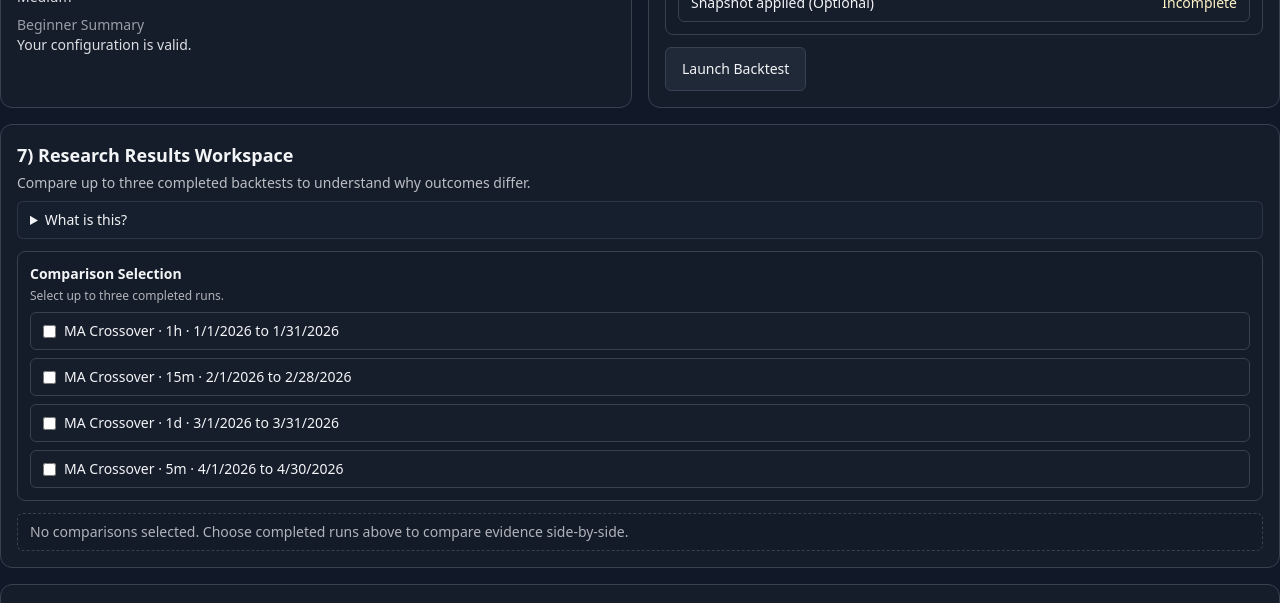
Test: StrategyLabPage Prompt 4.2 › renders deterministic key differences from selected run metrics
This screenshot has width=1280, height=603.
(page scrolled)
Click the checkbox named "Select comparison run bt-1". click: click(50, 332)
box: [43,325,56,338]
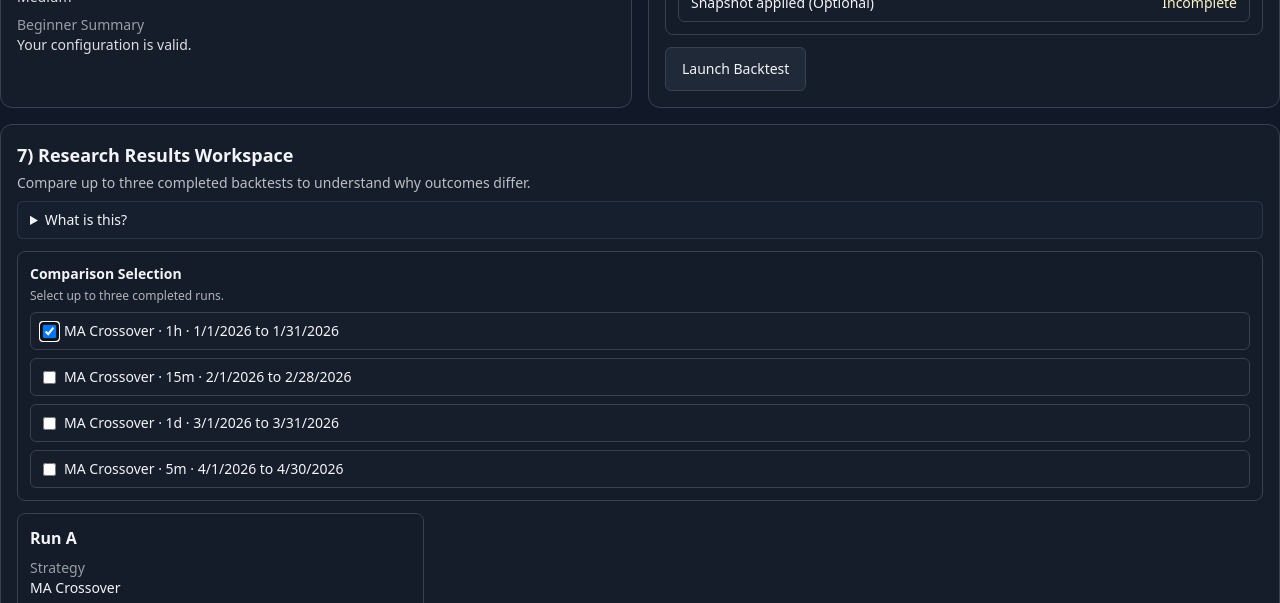
Click the checkbox named "Select comparison run bt-2". click: click(50, 378)
box: [43,371,56,384]
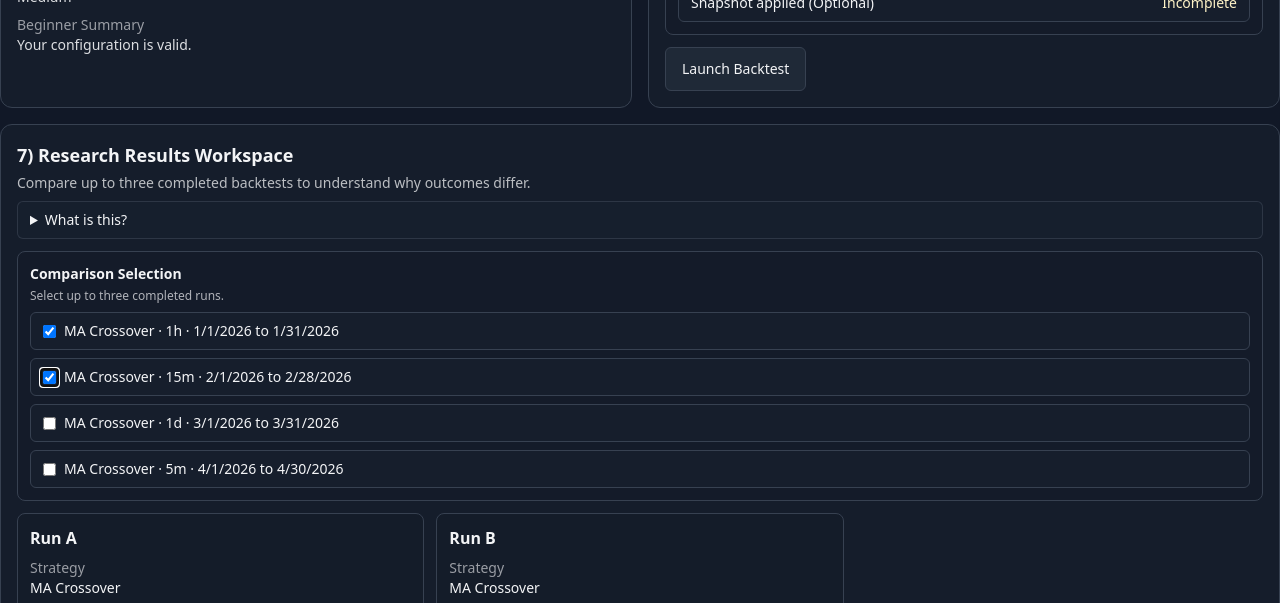
Click the checkbox named "Select comparison run bt-3". click: click(50, 424)
box: [43,417,56,430]
(page scrolled)
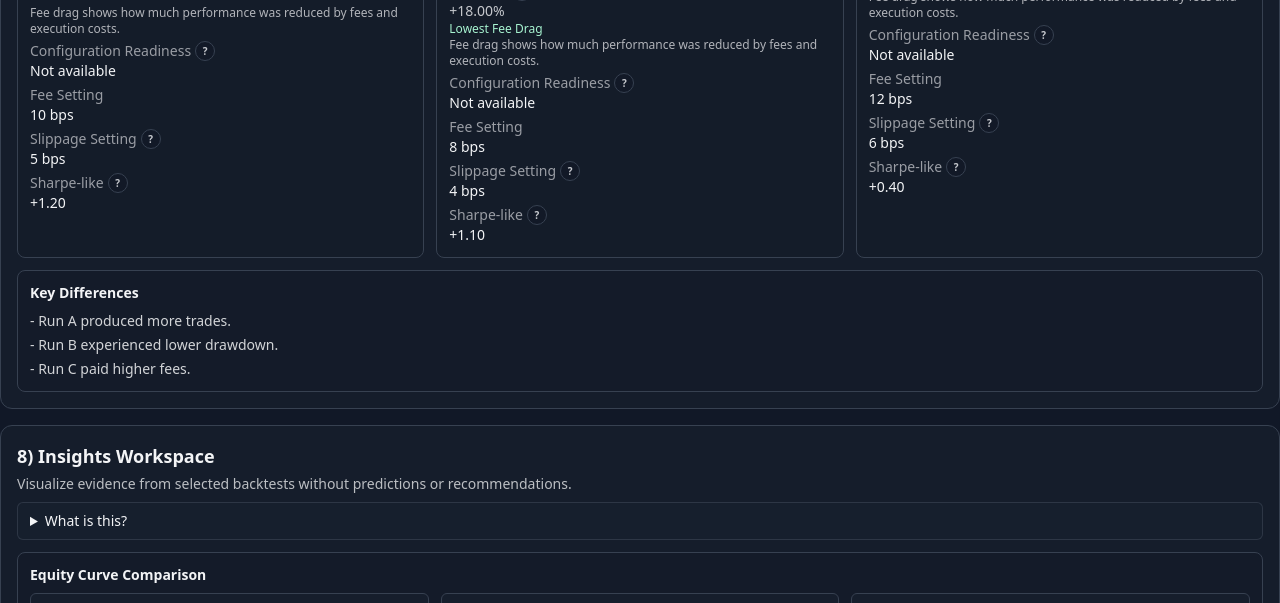
Result: the element with test id "key-differences-panel" shows "Run A produced more trades." at [38,311,231,330]
Result: the element with test id "key-differences-panel" shows "Run B experienced lower drawdown." at [38,335,278,354]
Result: the element with test id "key-differences-panel" shows "Run C paid higher fees." at [38,359,191,378]
